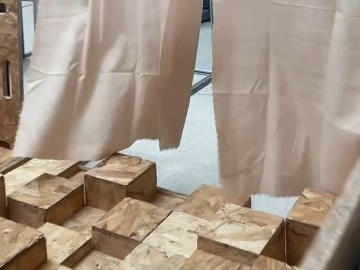curtain: (14, 0, 360, 197)
